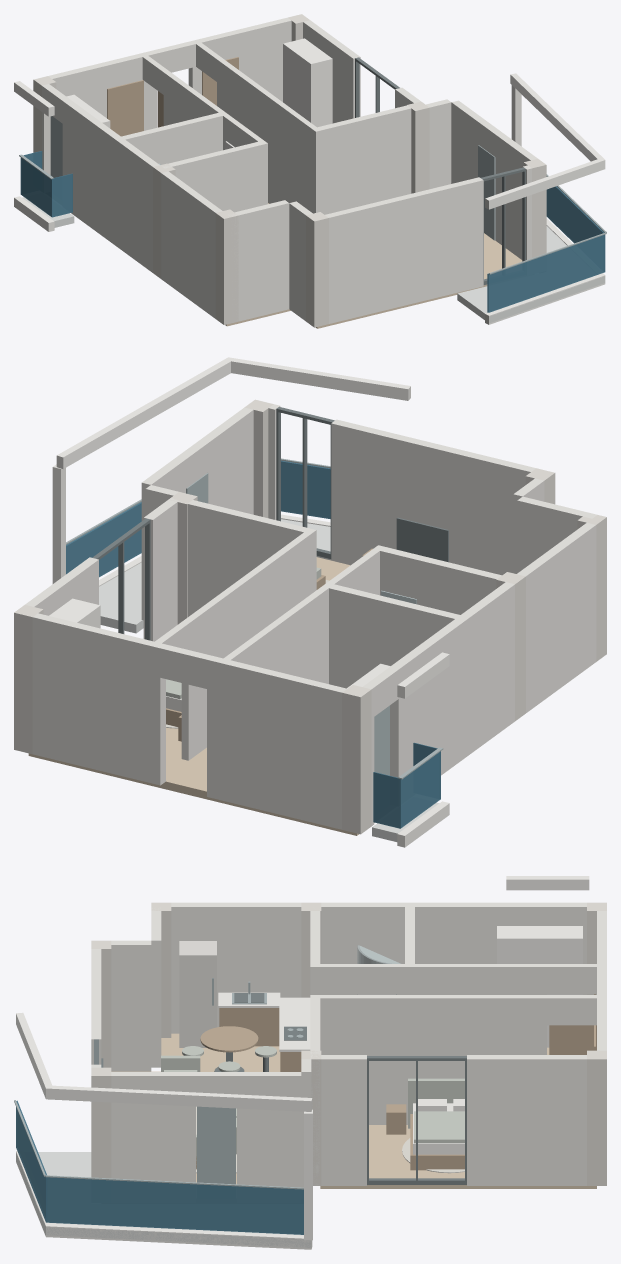
File: apartment.glb
3 renders of one model, top to bottom at view 1: azimuth 30°, elevation 25°; view 2: azimuth 150°, elevation 25°; view 3: azimuth 270°, elevation 25°, orthographic. The views are drawn at different scales.
Visible parts, largest first — view 1: South exterior west, West exterior mid, Bedroom 2 south wall, Bedroom 2 west wall, Terrace glass (×2), West exterior south, South-west wall, Bathroom south wall, North exterior east, Wardrobe 2, North exterior west, Bedroom 1 south wall (+36 smaller); view 2: South exterior west, North exterior west, North exterior east, West exterior mid, West exterior south, Bedroom 2 west wall, Bedroom 1 south wall, Bedroom 2 south wall, Terrace soffit (×2), Terrace glass (×2), Bathroom south wall, Bedroom 1 east wall (+30 smaller); view 3: Bedroom 2 west wall, East exterior bedroom, Terrace glass (×2), West exterior mid, West exterior south, East exterior living south, East exterior living north, East exterior stub, South-west return, Terrace soffit (×2), Bedroom 1 east wall, Refrigerator (+44 smaller).
Part boxes in pixels (x1,y1,x2,y2): South exterior west: [325, 177, 483, 323]; West exterior mid: [62, 99, 159, 272]; Bedroom 2 south wall: [317, 104, 411, 214]; Bedroom 2 west wall: [217, 58, 321, 213]; Terrace glass (×2): [487, 186, 605, 312]; West exterior south: [161, 171, 222, 318]; South-west wall: [228, 200, 289, 322]; Bathroom south wall: [162, 141, 262, 212]; North exterior east: [188, 17, 291, 101]; Wardrobe 2: [283, 38, 332, 127]; North exterior west: [48, 50, 156, 130]; Bedroom 1 south wall: [121, 112, 222, 164]; South exterior west: [331, 419, 535, 575]; North exterior west: [207, 655, 346, 829]; North exterior east: [32, 613, 165, 785]; West exterior mid: [389, 582, 514, 777]; West exterior south: [517, 523, 596, 712]; Bedroom 2 west wall: [181, 528, 316, 760]; Bedroom 1 south wall: [329, 584, 460, 688]; Bedroom 2 south wall: [169, 497, 308, 616]; Terrace soffit (×2): [56, 357, 410, 468]; Terrace glass (×2): [66, 460, 330, 577]; Bathroom south wall: [380, 547, 510, 614]; Bedroom 1 east wall: [251, 582, 333, 683]; Bedroom 2 west wall: [310, 995, 546, 1124]; East exterior bedroom: [467, 1055, 586, 1185]; Terrace glass (×2): [16, 1100, 303, 1234]; West exterior mid: [321, 902, 536, 994]; West exterior south: [171, 902, 301, 1033]; East exterior living south: [111, 1072, 195, 1182]; East exterior living north: [237, 1072, 301, 1187]; East exterior stub: [321, 1055, 366, 1185]; South-west return: [111, 940, 151, 1071]; Terrace soffit (×2): [16, 1012, 312, 1111]; Bedroom 1 east wall: [405, 964, 546, 994]; Refrigerator: [179, 941, 216, 1047].
Size of the model in its own units: 10.72 by 3.28 by 11.86.
